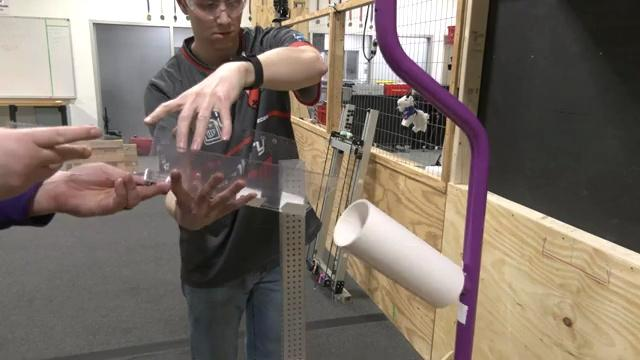CORAL: (331, 197, 465, 308)
